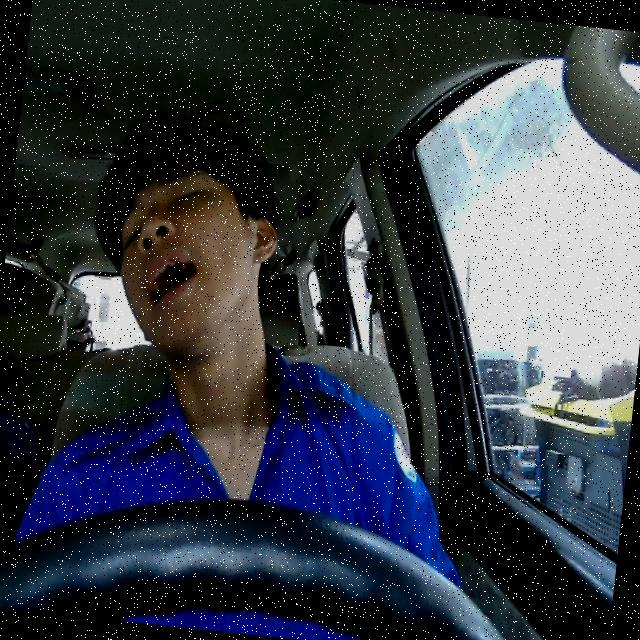yarning: (106, 144, 286, 362)
